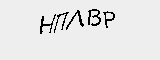В: (87, 5, 101, 29)
Л: (66, 9, 86, 29)
Н: (37, 15, 54, 34)
П: (52, 10, 67, 36)
Р: (103, 8, 117, 31)
